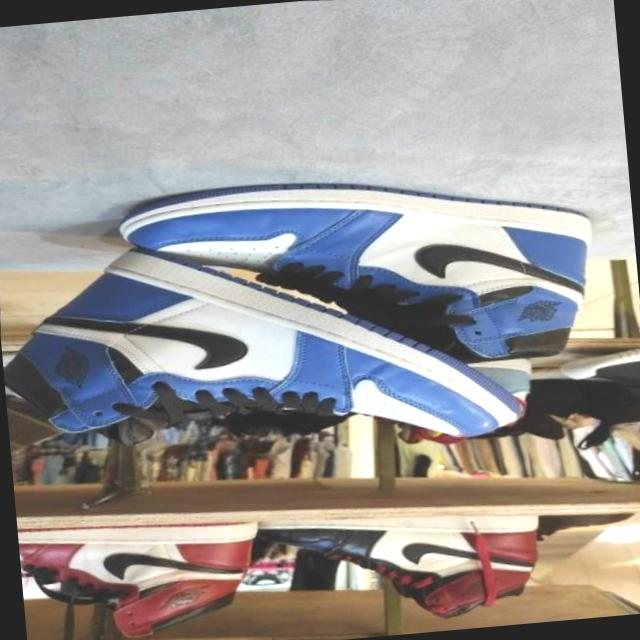nike_fake_jordan: (0, 203, 549, 482), (108, 148, 606, 400)
nike_original_jordan: (16, 501, 274, 640)
